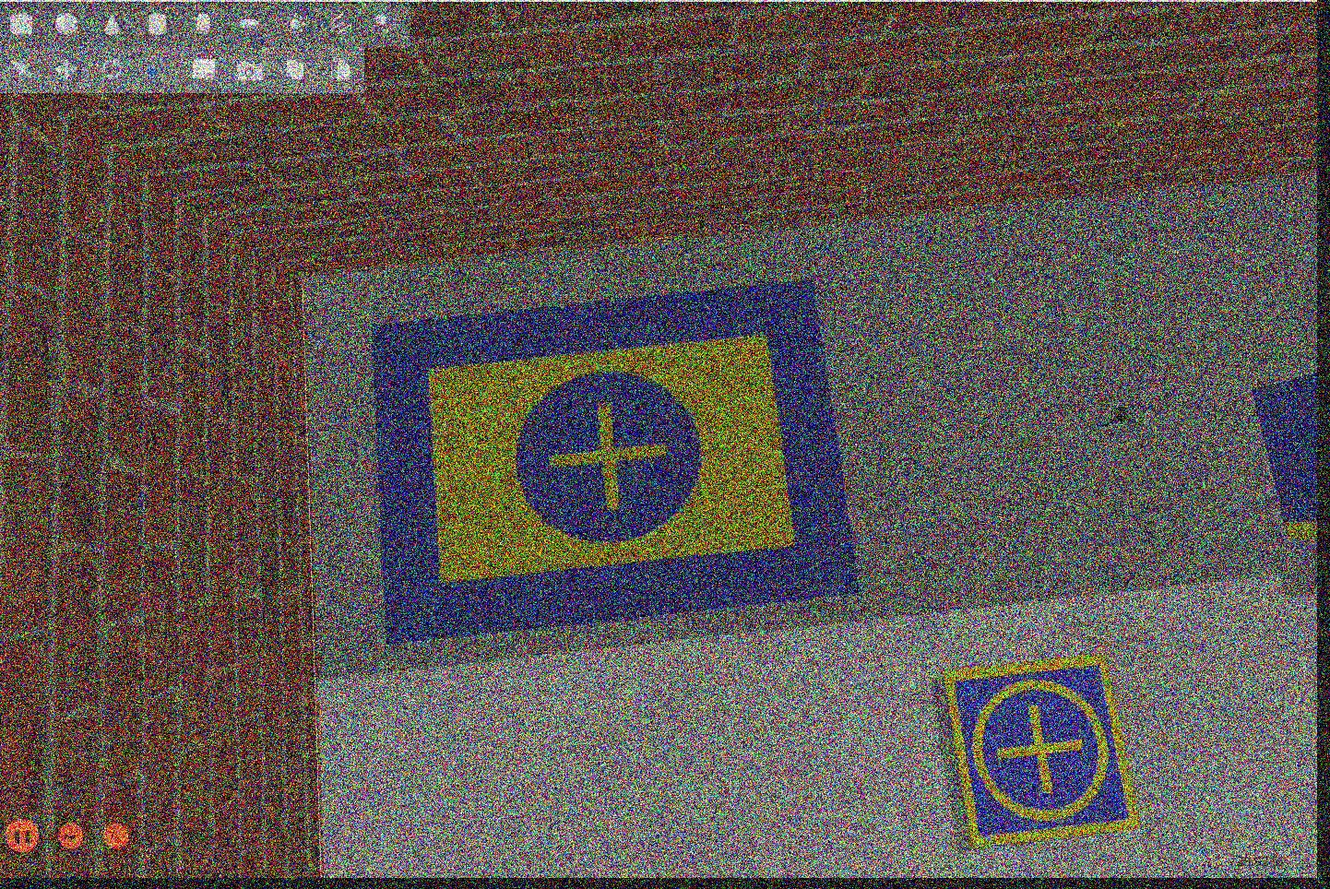large_base: (369, 277, 865, 653)
small_base: (942, 657, 1144, 850)
